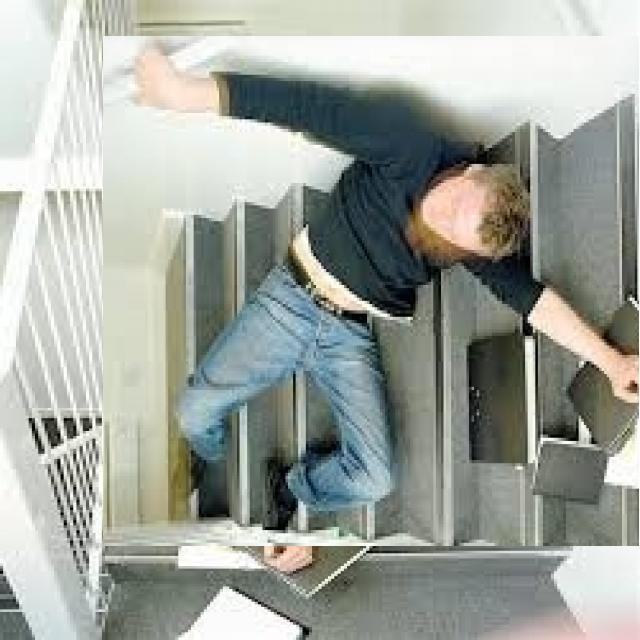Fall: (105, 48, 640, 606)
